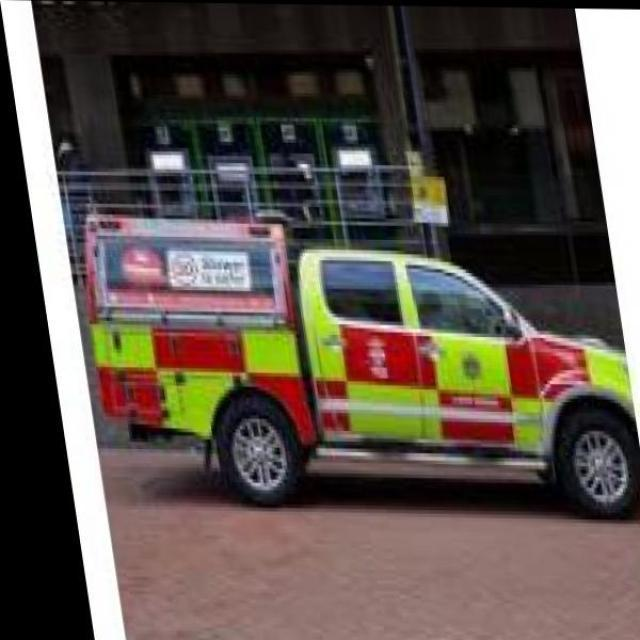emergency: (78, 206, 638, 518)
